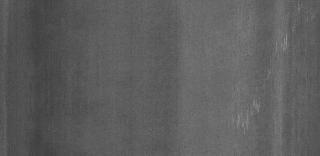silk spot: (228, 86, 264, 142)
